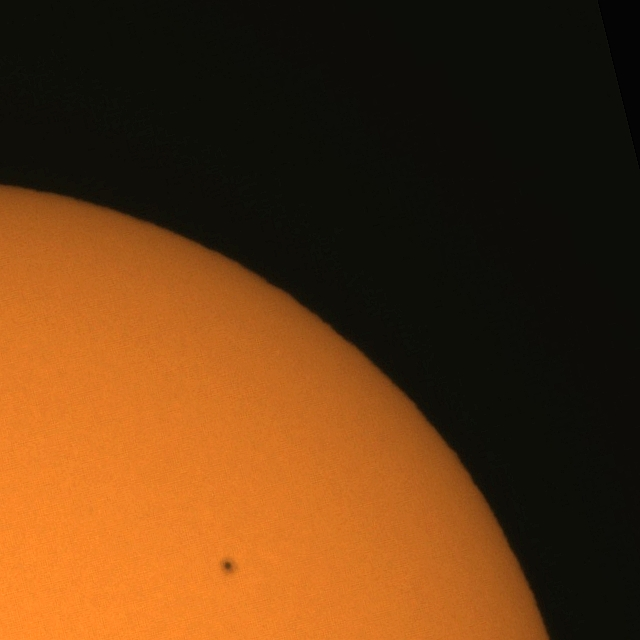sunspot: (220, 560, 238, 582)
